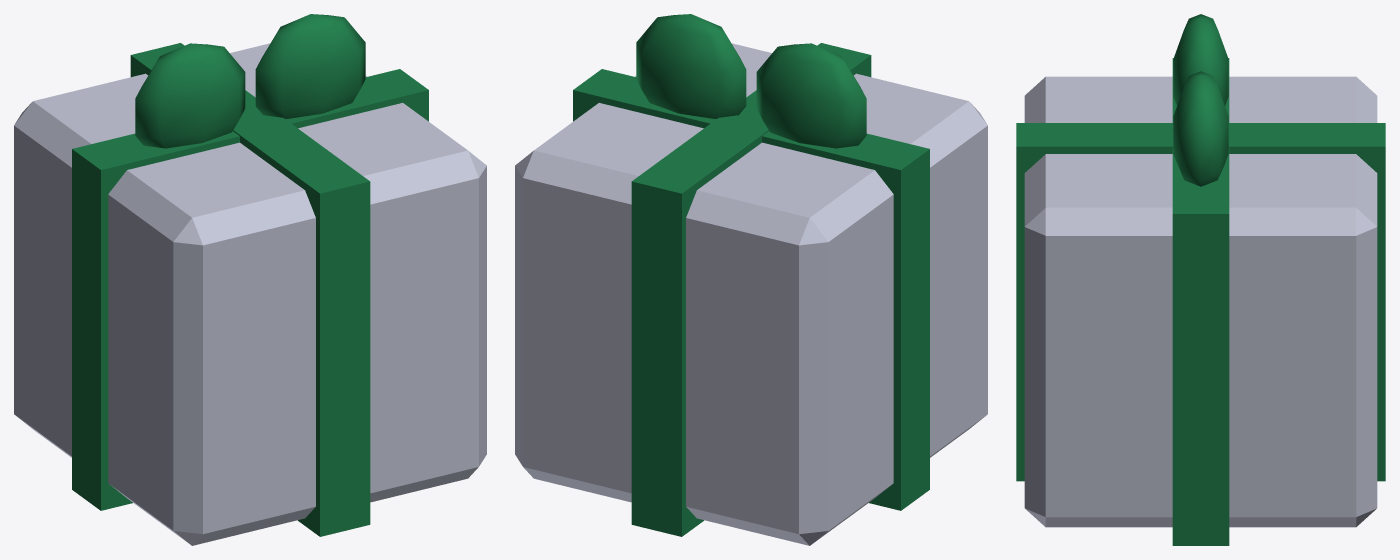
The model's file is Intro_Present_C.fbx.
3 renders of one model, left to right at view 1: azimuth 30°, elevation 25°; view 2: azimuth 150°, elevation 25°; view 3: azimuth 270°, elevation 25°, orthographic. The views are drawn at different scales.
Visible parts, largest first — view 1: Intro_Present_C; view 2: Intro_Present_C; view 3: Intro_Present_C.
Part boxes in pixels (x1,y1,x2,y2): Intro_Present_C: (14, 14, 486, 545); Intro_Present_C: (515, 14, 987, 545); Intro_Present_C: (1016, 14, 1385, 545).
Size of the model in its own units: 2.72 by 3.43 by 2.72.
1 material, 1 textured.
